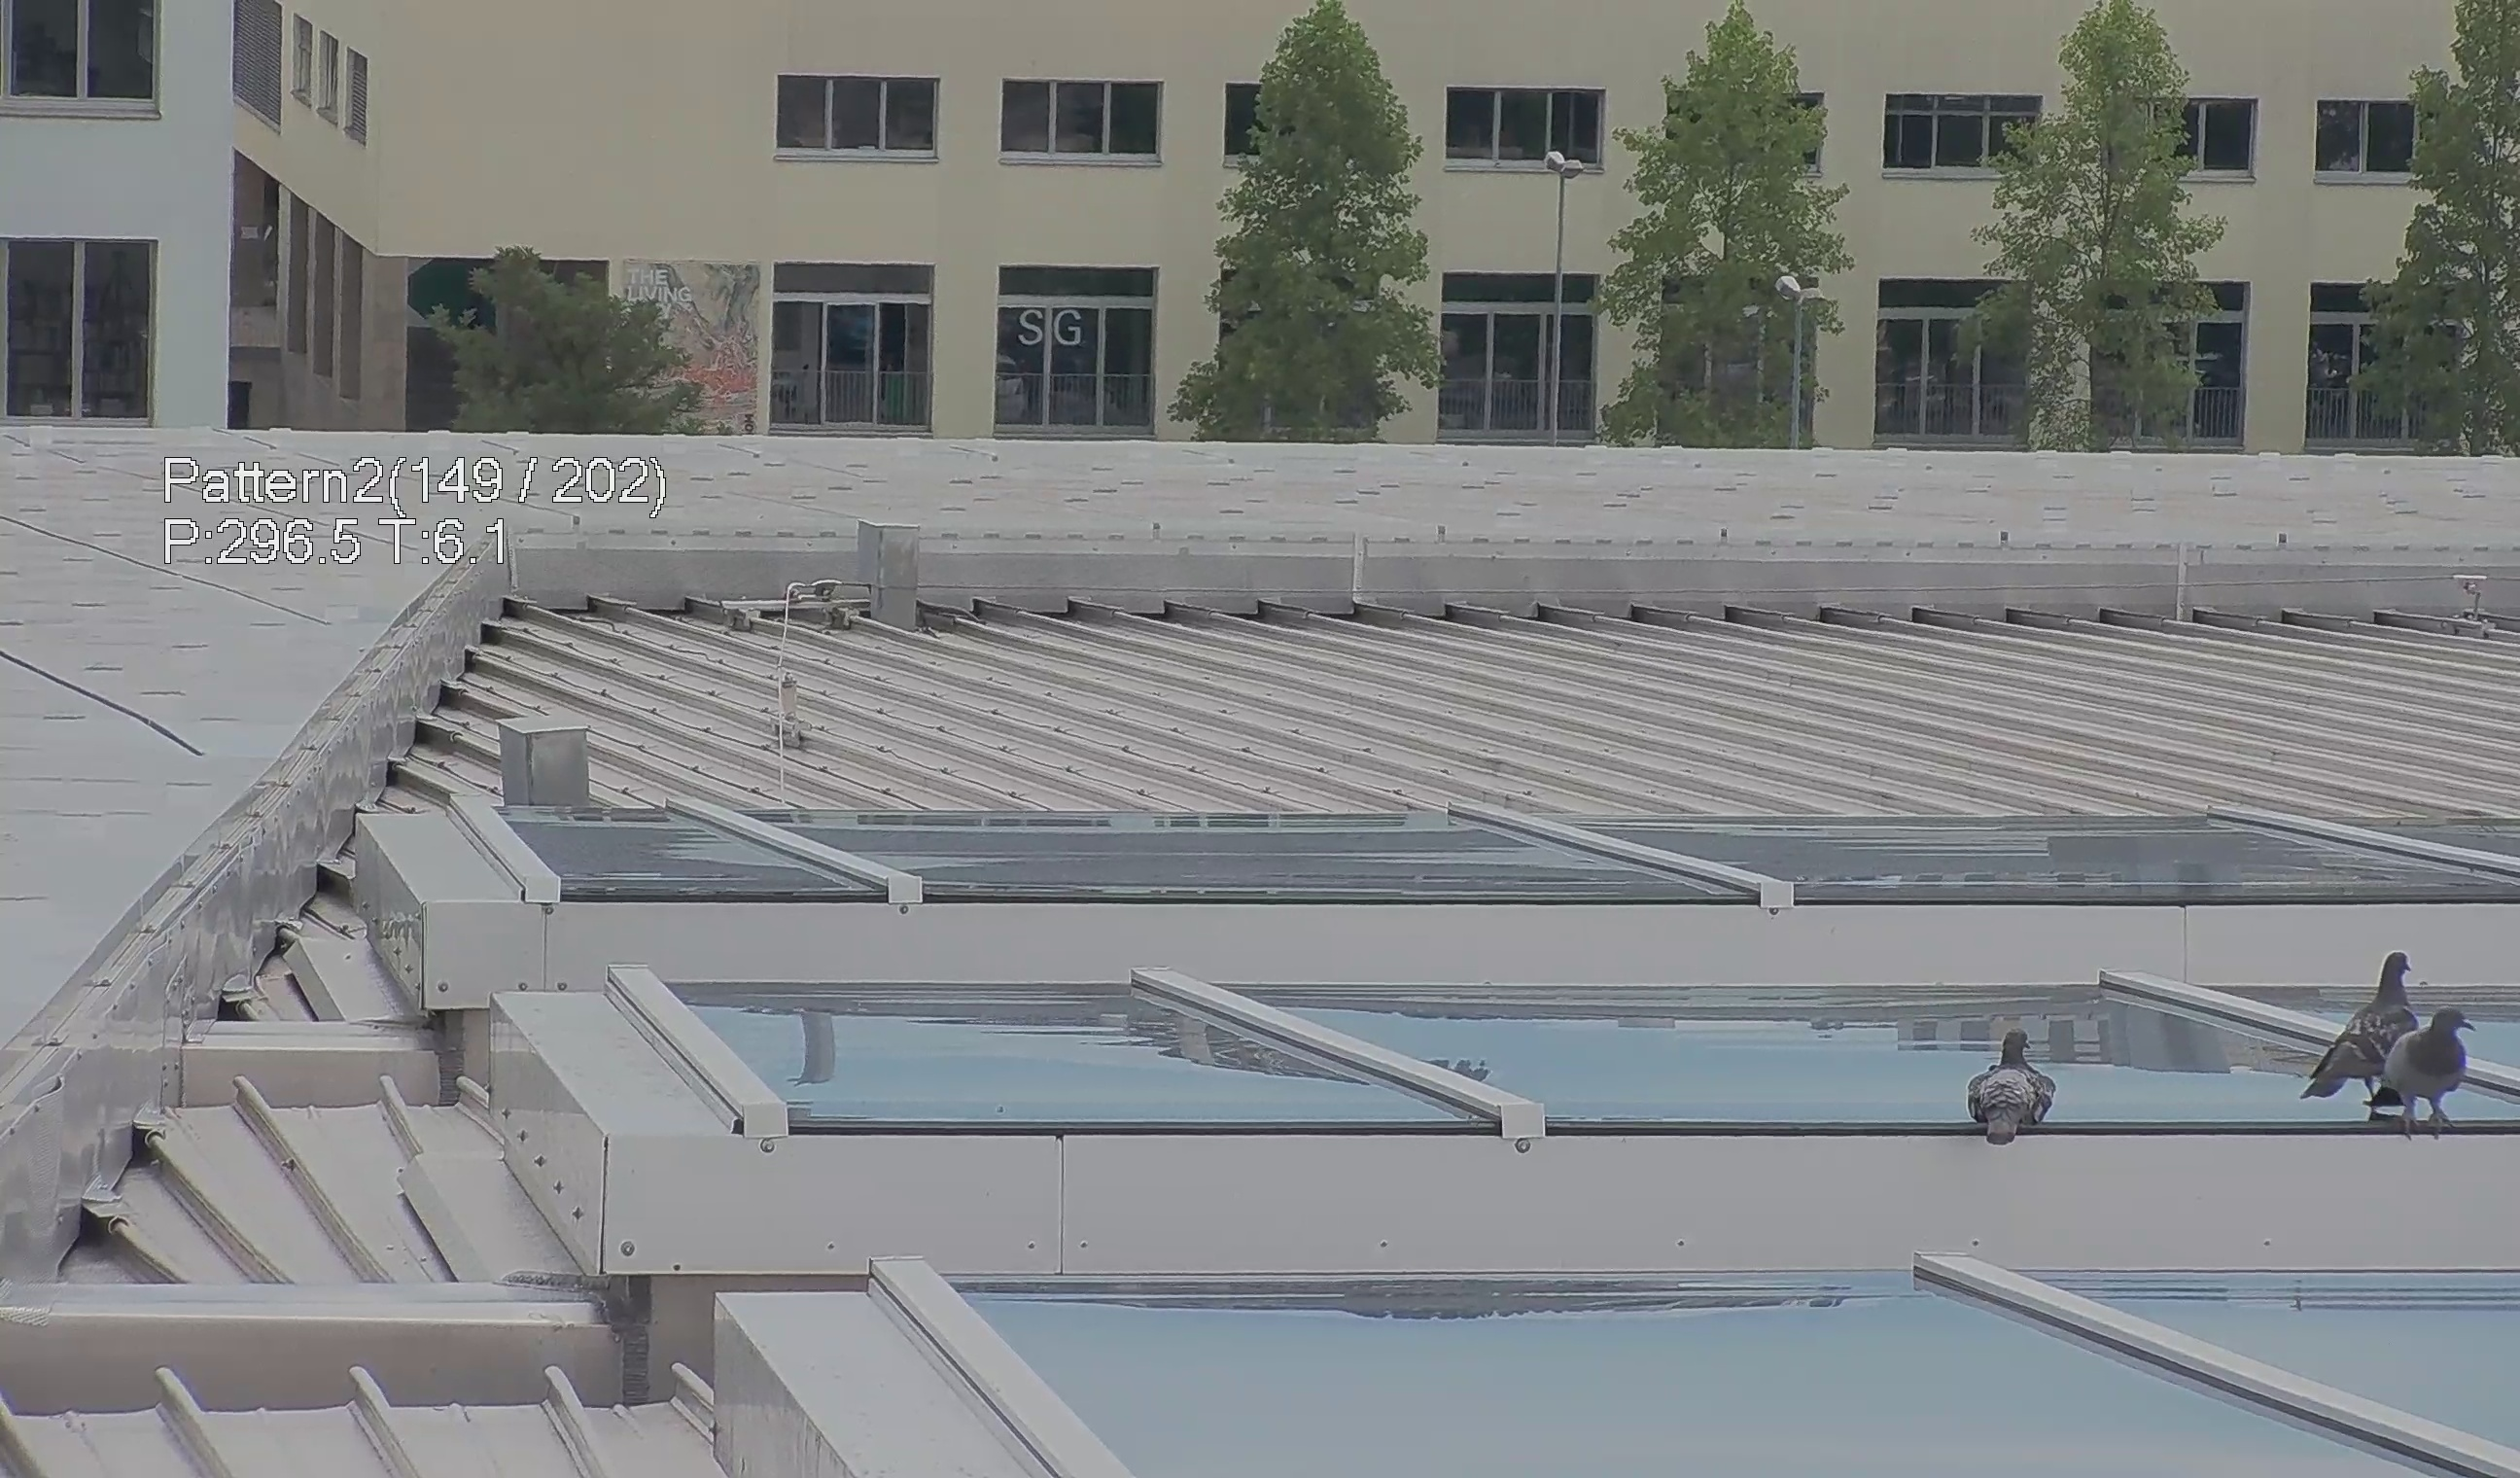Pigeon: (2307, 954, 2427, 1110), (2371, 999, 2501, 1138), (1966, 1013, 2072, 1160)
